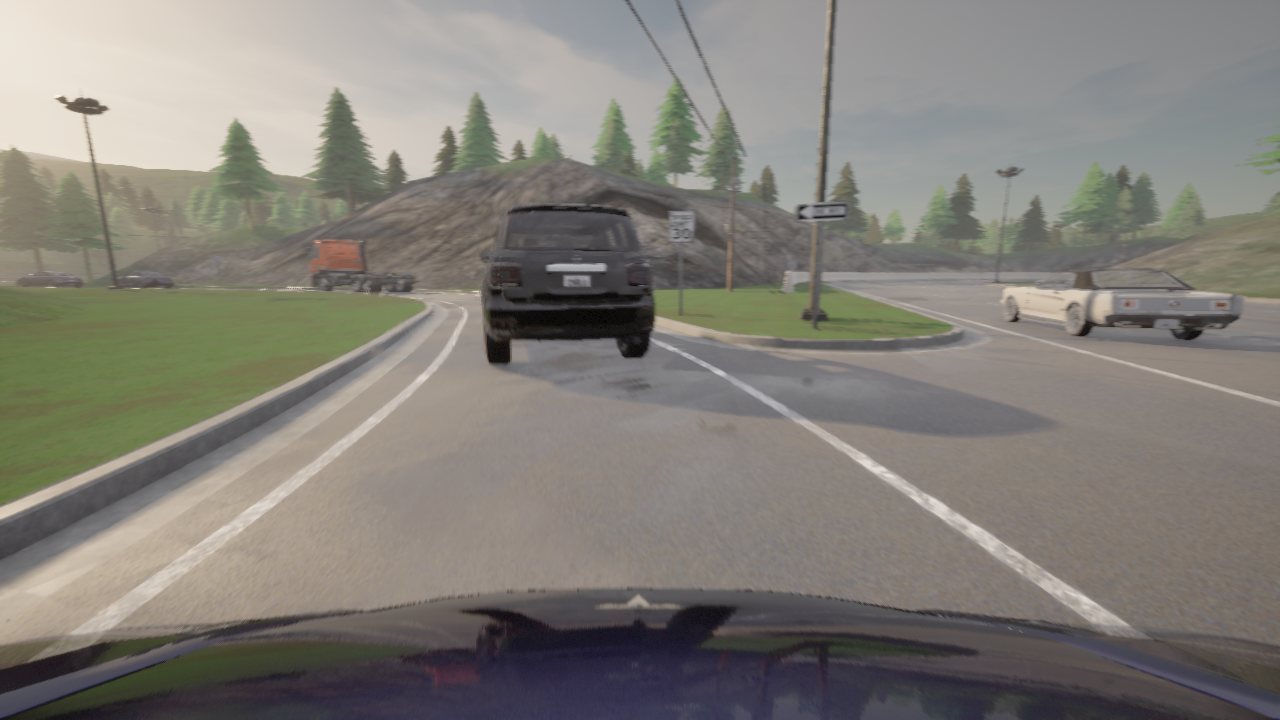cyclist: (0, 588, 1279, 719), (481, 203, 654, 364), (1000, 268, 1244, 340), (307, 239, 420, 293), (16, 271, 82, 287), (118, 271, 173, 288)
